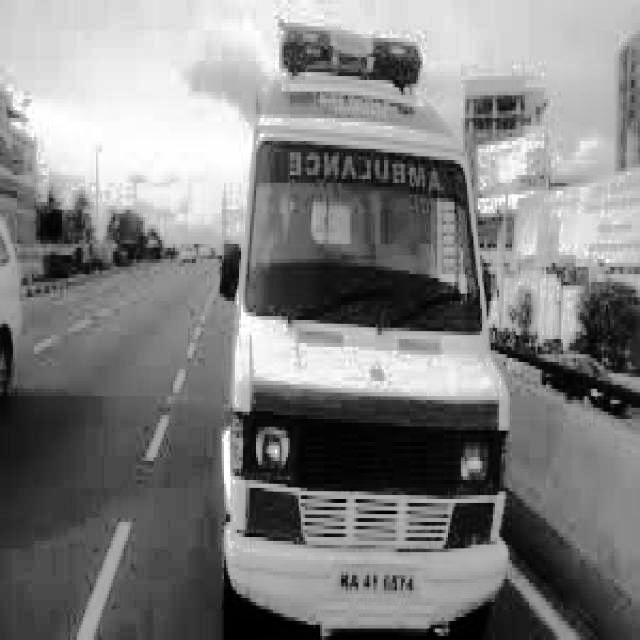LCV: (219, 26, 510, 635)
